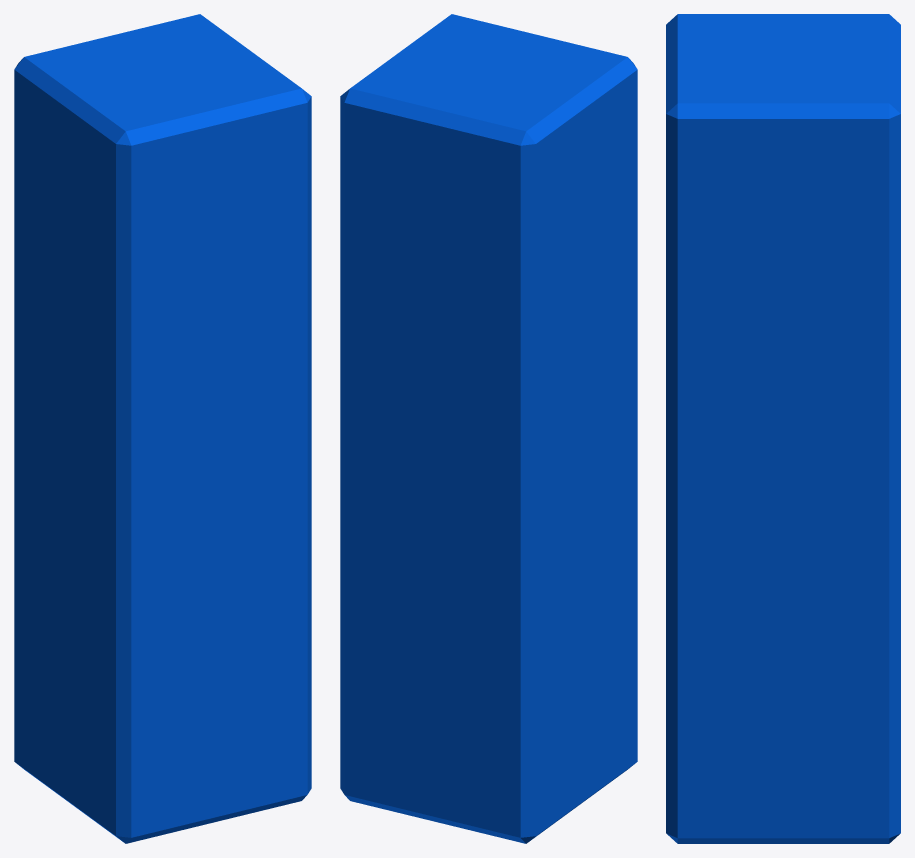
Rendered from webaverse-ld-block-kit-01.glb.
3 views of the same model, side by side, from view 1: azimuth 30°, elevation 25°; view 2: azimuth 150°, elevation 25°; view 3: azimuth 270°, elevation 25° (orthographic). The views are drawn at different scales.
Visible parts, largest first — view 1: PlayerScale; view 2: PlayerScale; view 3: PlayerScale.
Part boxes in pixels (bbox=[...]): PlayerScale: bbox=[14, 14, 311, 843]; PlayerScale: bbox=[340, 14, 637, 843]; PlayerScale: bbox=[666, 14, 900, 843].
Size of the model in its own units: 0.5 by 1.74 by 0.5.
